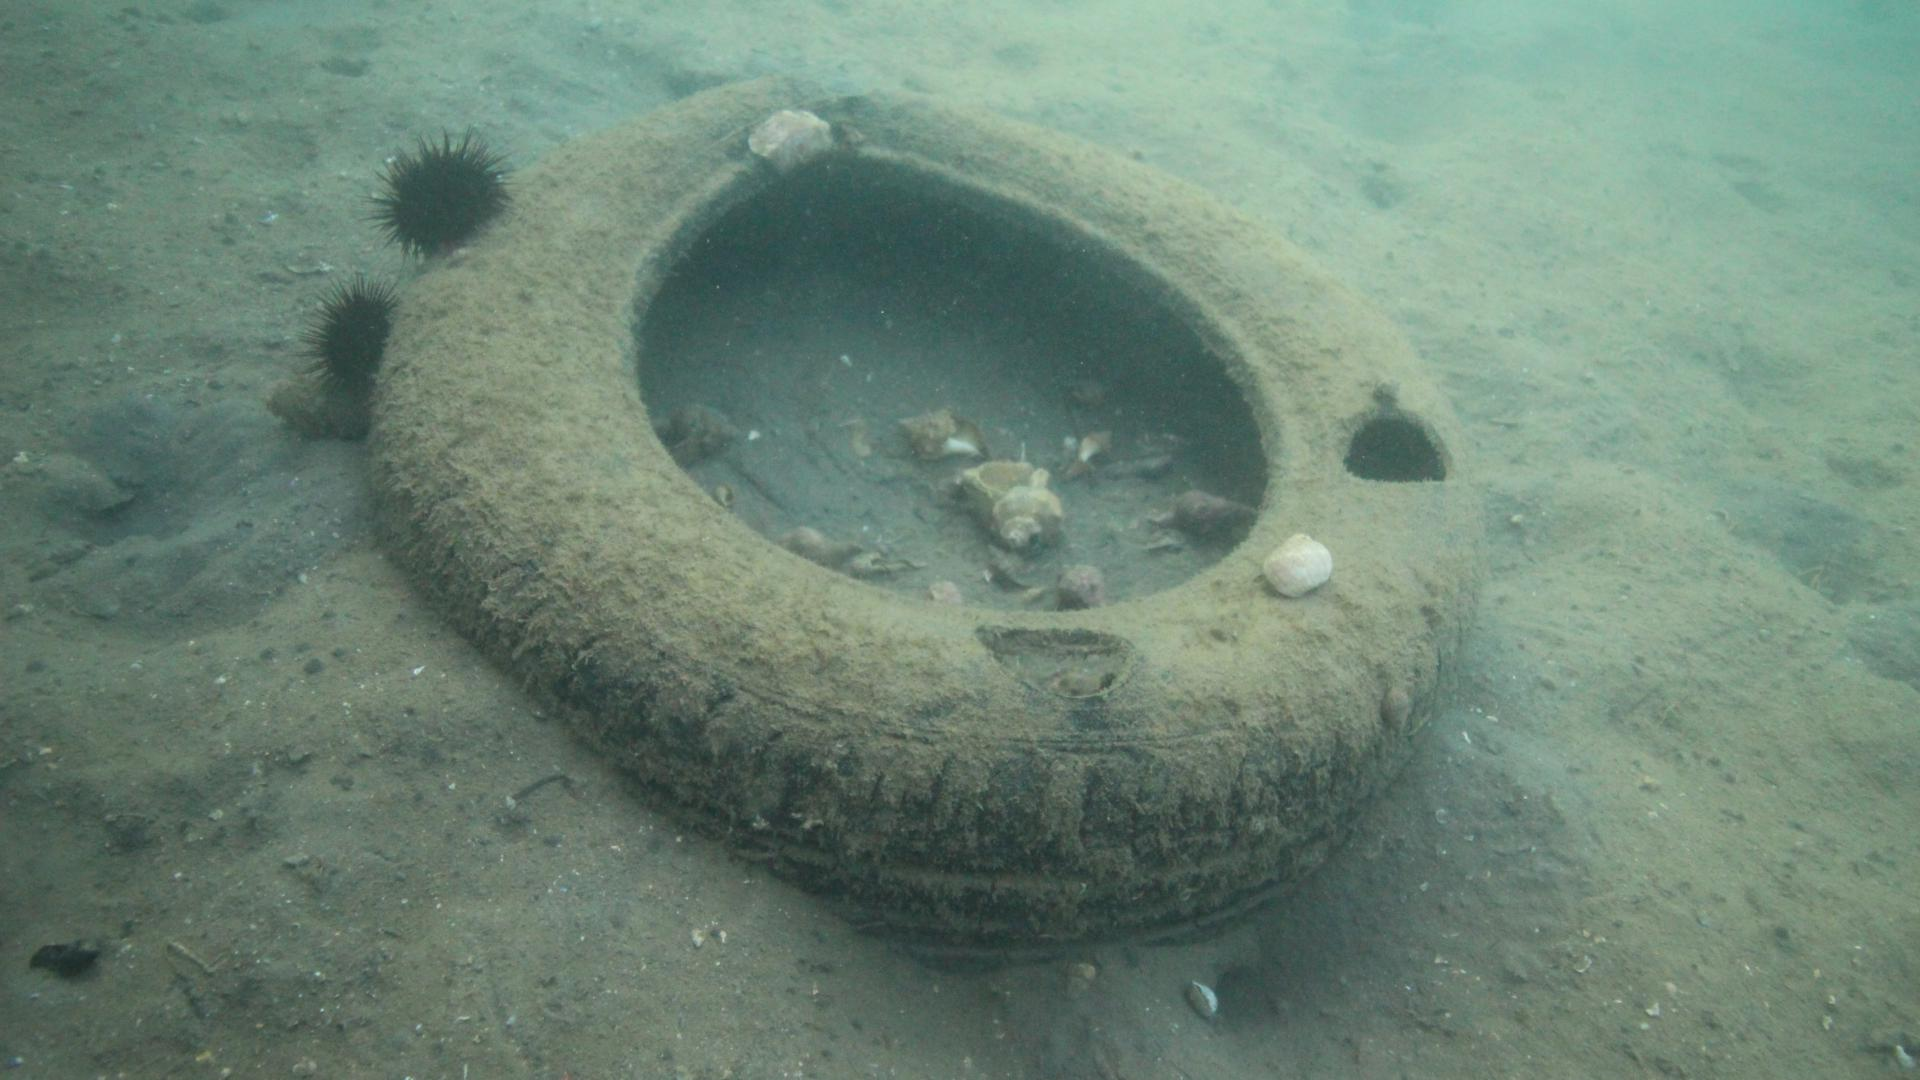tire: (360, 62, 1487, 973)
